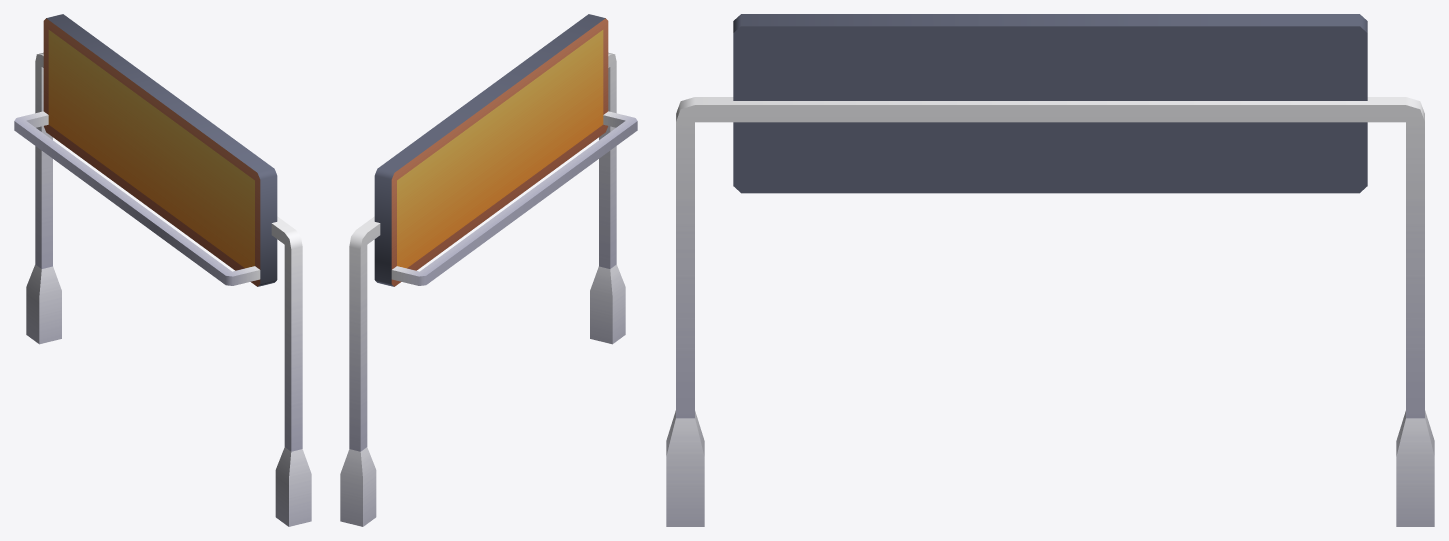
Rendered from sign-highway-wide.fbx.
The picture shows the model from 3 angles, left to right: view 1: azimuth 30°, elevation 25°; view 2: azimuth 150°, elevation 25°; view 3: azimuth 270°, elevation 25°; orthographic projection. The views are drawn at different scales.
Visible parts, largest first — view 1: sign-highway-wide; view 2: sign-highway-wide; view 3: sign-highway-wide.
Boxes of the visible parts, x1,y1,x2,y2 form: sign-highway-wide: [14, 14, 311, 526]; sign-highway-wide: [340, 14, 637, 526]; sign-highway-wide: [666, 14, 1434, 526].
Size of the model in its own units: 0.1324 by 0.7074 by 1.
